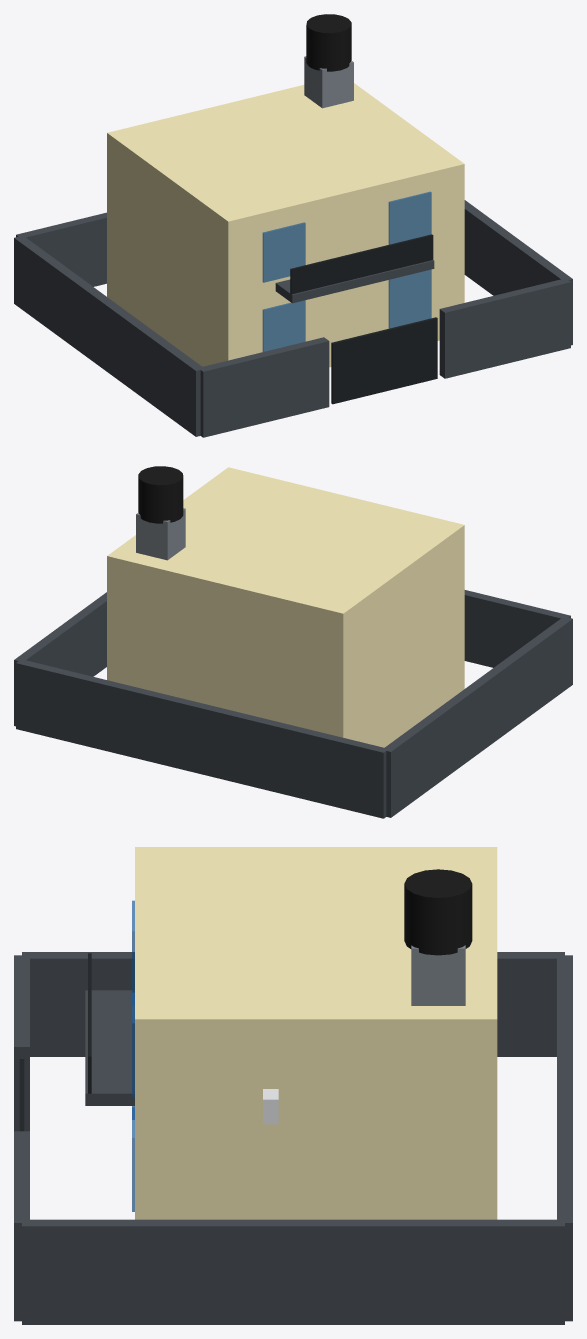
The model's file is compound_house.glb.
The picture shows the model from 3 angles, top to bottom: view 1: azimuth 30°, elevation 25°; view 2: azimuth 150°, elevation 25°; view 3: azimuth 270°, elevation 25°; orthographic projection. The views are drawn at different scales.
Parts seen in each view (by area): view 1: CompoundHouse; view 2: CompoundHouse; view 3: CompoundHouse.
Part boxes in pixels (bbox=[...]): CompoundHouse: bbox=[14, 14, 572, 437]; CompoundHouse: bbox=[14, 466, 572, 818]; CompoundHouse: bbox=[14, 847, 572, 1324].
Size of the model in its own units: 14.35 by 8.9 by 12.35.
